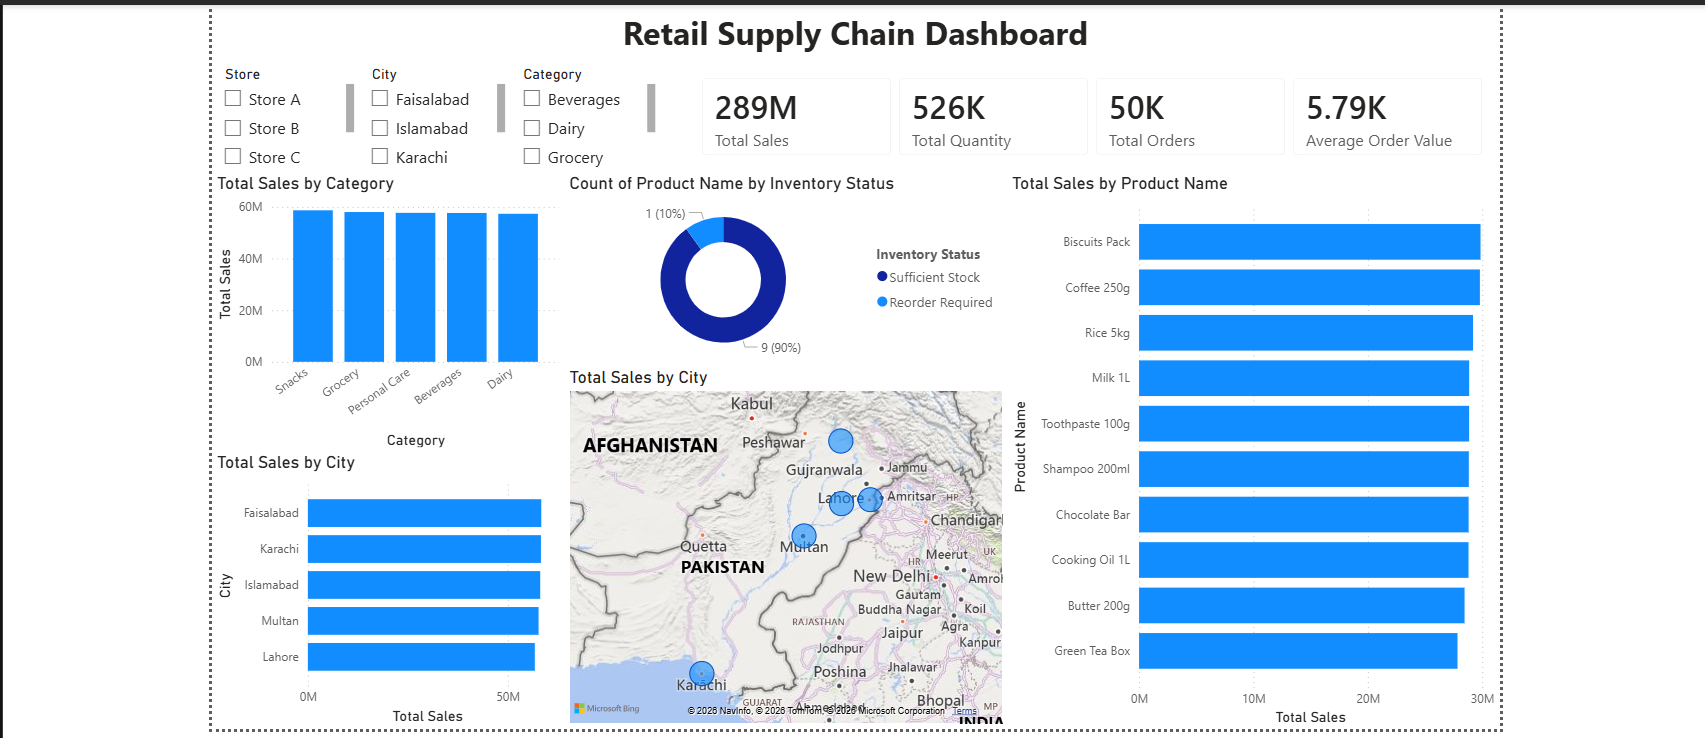

The page's visual inventory and layout, read from the dashboard file:
{"tool":"powerbi","page":{"name":"Page 1","canvas":[1280,720],"ordinal":0},"visuals":[{"type":"cardVisual","fields":{"Data":["Sales_Data.Total Sales","Sales_Data.Total Quantity","Sales_Data.Total Orders","Sales_Data.Average Order Value"]},"box":[469.9,55.2,810,111.9],"z":0},{"type":"clusteredColumnChart","fields":{"Category":["Sales_Data.Category"],"Y":["Sales_Data.Total Sales"]},"box":[0,167.1,350.6,277.5],"z":1},{"type":"barChart","fields":{"Category":["Sales_Data.City"],"Y":["Sales_Data.Total Sales"]},"box":[0,444.5,350.6,274.5],"z":3},{"type":"barChart","fields":{"Category":["Sales_Data.Product Name"],"Y":["Sales_Data.Total Sales"]},"box":[790.6,167.1,489.3,553.4],"z":4},{"type":"donutChart","fields":{"Category":["Inventory_Data.Inventory Status"],"Y":["CountNonNull(Inventory_Data.Product Name)"]},"box":[350.6,167.1,440.1,192.4],"z":5},{"type":"slicer","fields":{"Values":["Sales_Data.Store"]},"box":[0,55.2,146.2,111],"z":6},{"type":"slicer","fields":{"Values":["Sales_Data.Category"]},"box":[296.9,55.2,149.2,111.9],"z":7},{"type":"slicer","fields":{"Values":["Sales_Data.City"]},"box":[146.2,55.2,150.7,111.9],"z":8},{"type":"map","fields":{"Category":["Sales_Data.City"],"Size":["Sales_Data.Total Sales"]},"box":[350.6,359.5,440.1,359.5],"z":9},{"type":"textbox","box":[0,0,1279.9,55.2],"z":10}]}

Visuals, with their boxes on the page's 1280x720 design canvas (x1, y1, x2, y2). These are canvas units, not pixel positions in the 1705x738 screenshot, which may show the page scaled, cropped or inside an application window:
cardVisual - Sales_Data.Total Sales x Sales_Data.Total Quantity: [x1=470, y1=55, x2=1280, y2=167]
clusteredColumnChart - Sales_Data.Category x Sales_Data.Total Sales: [x1=0, y1=167, x2=351, y2=445]
barChart - Sales_Data.City x Sales_Data.Total Sales: [x1=0, y1=444, x2=351, y2=719]
barChart - Sales_Data.Product Name x Sales_Data.Total Sales: [x1=791, y1=167, x2=1280, y2=720]
donutChart - Inventory_Data.Inventory Status x CountNonNull(Inventory_Data.Product Name): [x1=351, y1=167, x2=791, y2=360]
slicer - Sales_Data.Store: [x1=0, y1=55, x2=146, y2=166]
slicer - Sales_Data.Category: [x1=297, y1=55, x2=446, y2=167]
slicer - Sales_Data.City: [x1=146, y1=55, x2=297, y2=167]
map - Sales_Data.City x Sales_Data.Total Sales: [x1=351, y1=360, x2=791, y2=719]
textbox: [x1=0, y1=0, x2=1280, y2=55]
